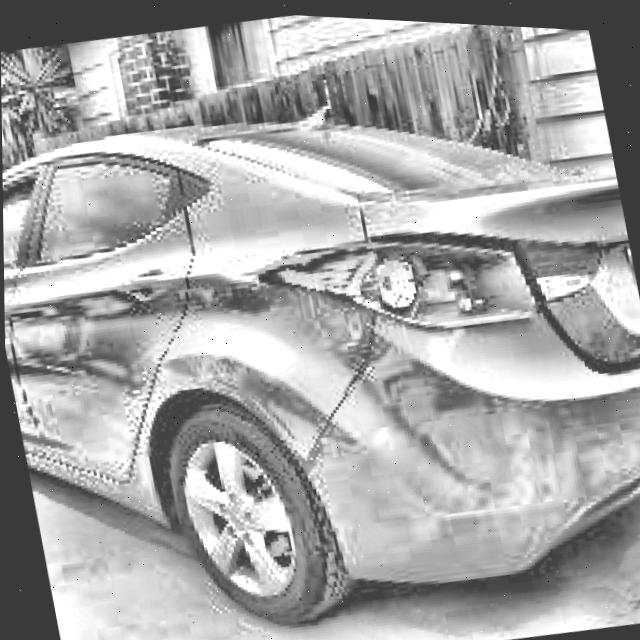tail_lamp: (352, 230, 523, 344)
